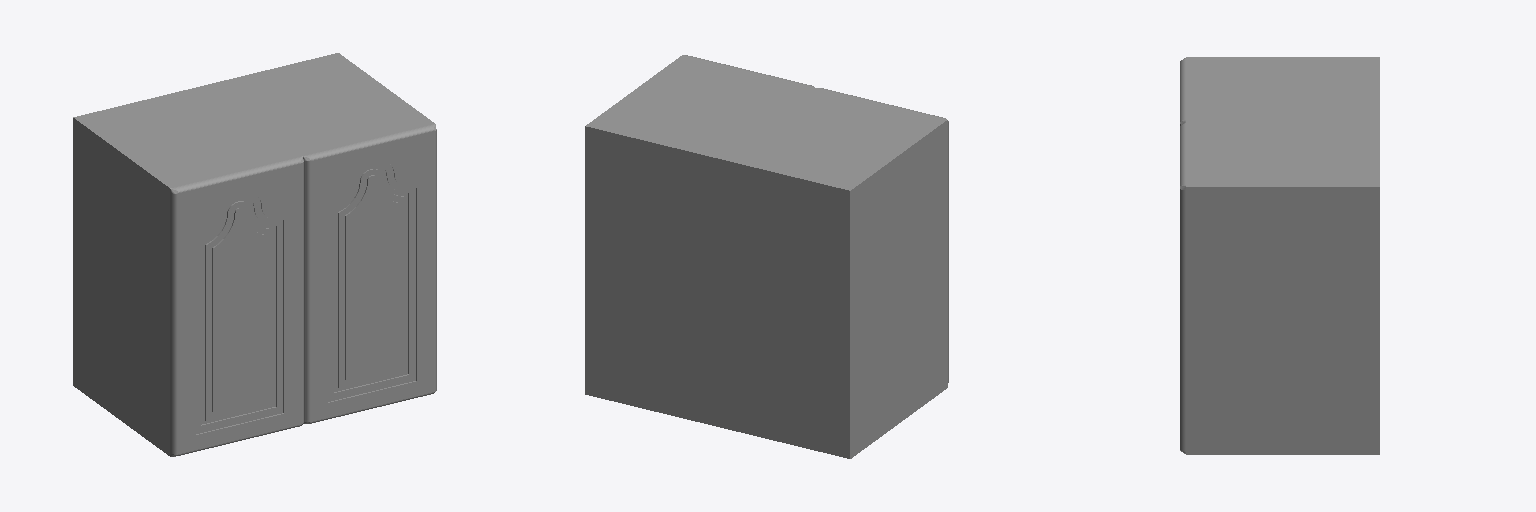
Rendered from double-base-unit-900.obj.
3 renders of one model, left to right at view 1: azimuth 30°, elevation 25°; view 2: azimuth 150°, elevation 25°; view 3: azimuth 270°, elevation 25°, orthographic.
Visible parts, largest first — view 1: Cube.003_Cube.008, Cube.004_Cube.000, Cube.002_Cube.004, Cube_Cube.002; view 2: Cube_Cube.002, Cube.002_Cube.004, Cube.001_Cube.003, Cube.003_Cube.008; view 3: Cube.001_Cube.003, Cube_Cube.002, Cube.004_Cube.000.
Part boxes in pixels (bbox=[...]): Cube.003_Cube.008: bbox=[170, 156, 303, 456]; Cube.004_Cube.000: bbox=[303, 124, 436, 423]; Cube.002_Cube.004: bbox=[73, 116, 173, 455]; Cube_Cube.002: bbox=[78, 54, 430, 186]; Cube_Cube.002: bbox=[590, 56, 941, 457]; Cube.002_Cube.004: bbox=[846, 119, 946, 458]; Cube.001_Cube.003: bbox=[585, 55, 685, 395]; Cube.003_Cube.008: bbox=[819, 88, 948, 387]; Cube.001_Cube.003: bbox=[1186, 184, 1379, 454]; Cube_Cube.002: bbox=[1186, 59, 1379, 183]; Cube.004_Cube.000: bbox=[1180, 122, 1185, 453].
Size of the model in its own units: 180 by 174 by 118.